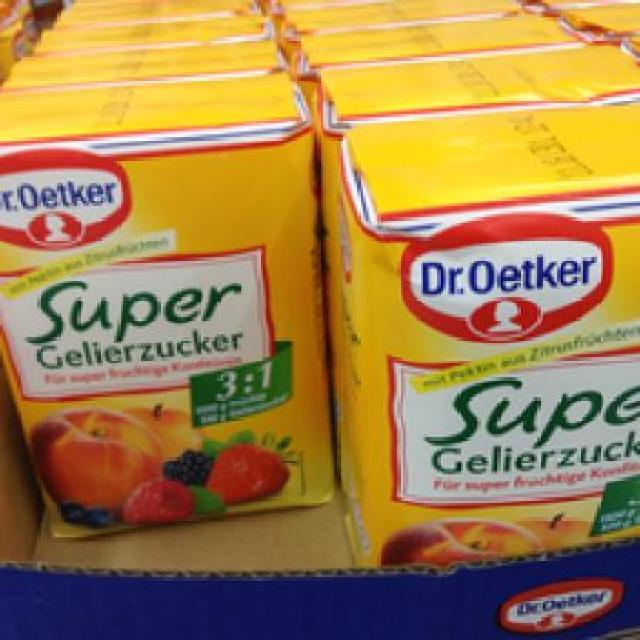Sugar: (0, 67, 332, 543), (312, 100, 638, 563)
